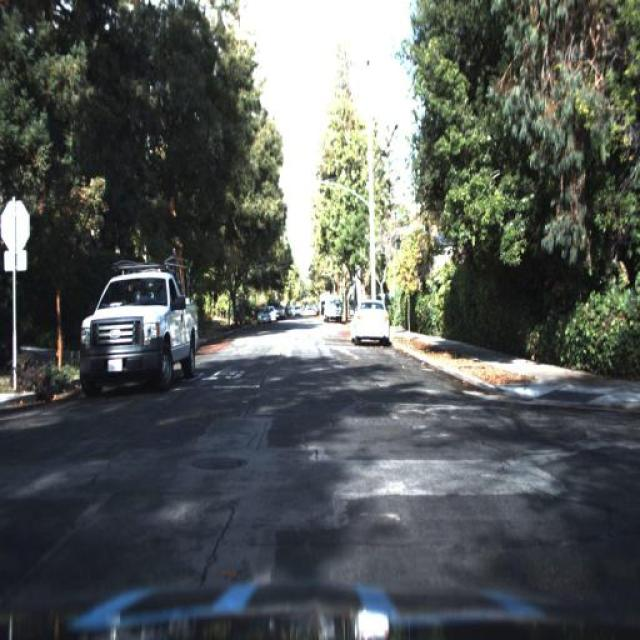car: (75, 245, 204, 399), (346, 296, 390, 353), (321, 291, 343, 324), (255, 306, 273, 329)
